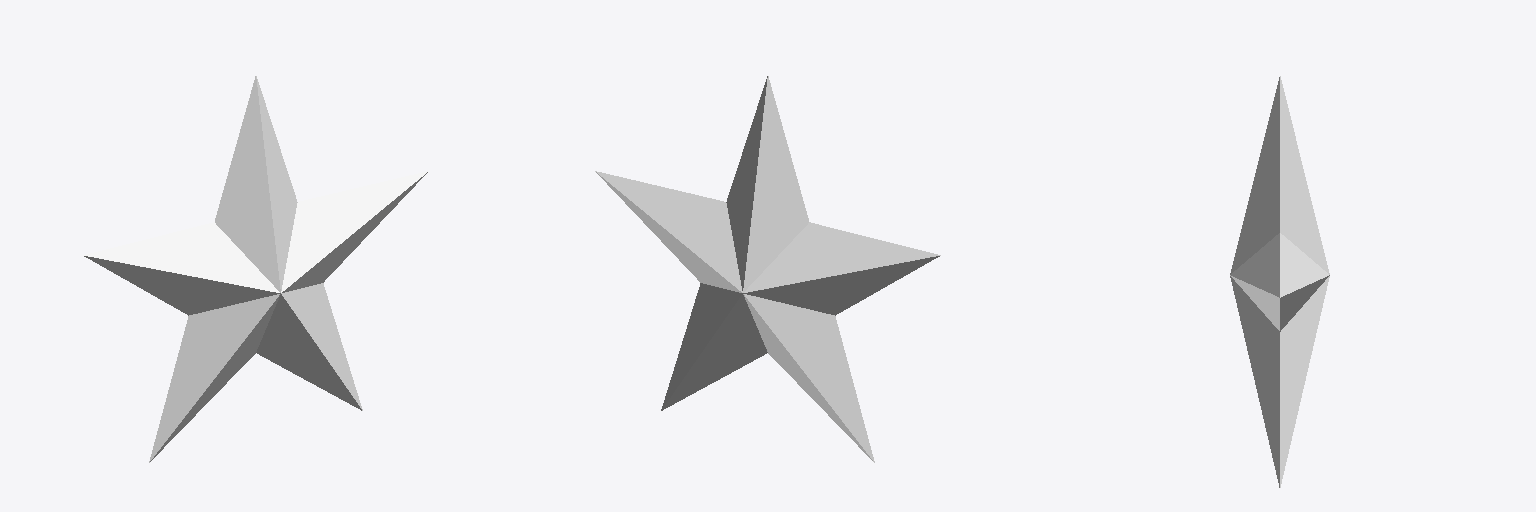
Rendered from star.obj.
3 renders of one model, left to right at view 1: azimuth 30°, elevation 25°; view 2: azimuth 150°, elevation 25°; view 3: azimuth 270°, elevation 25°, orthographic.
Parts seen in each view (by area): view 1: Star; view 2: Star; view 3: Star.
Boxes of the visible parts, x1=… form: Star: x1=83, y1=76, x2=428, y2=462; Star: x1=595, y1=76, x2=940, y2=462; Star: x1=1230, y1=76, x2=1329, y2=487.
Size of the model in its own units: 1 by 1 by 0.25.